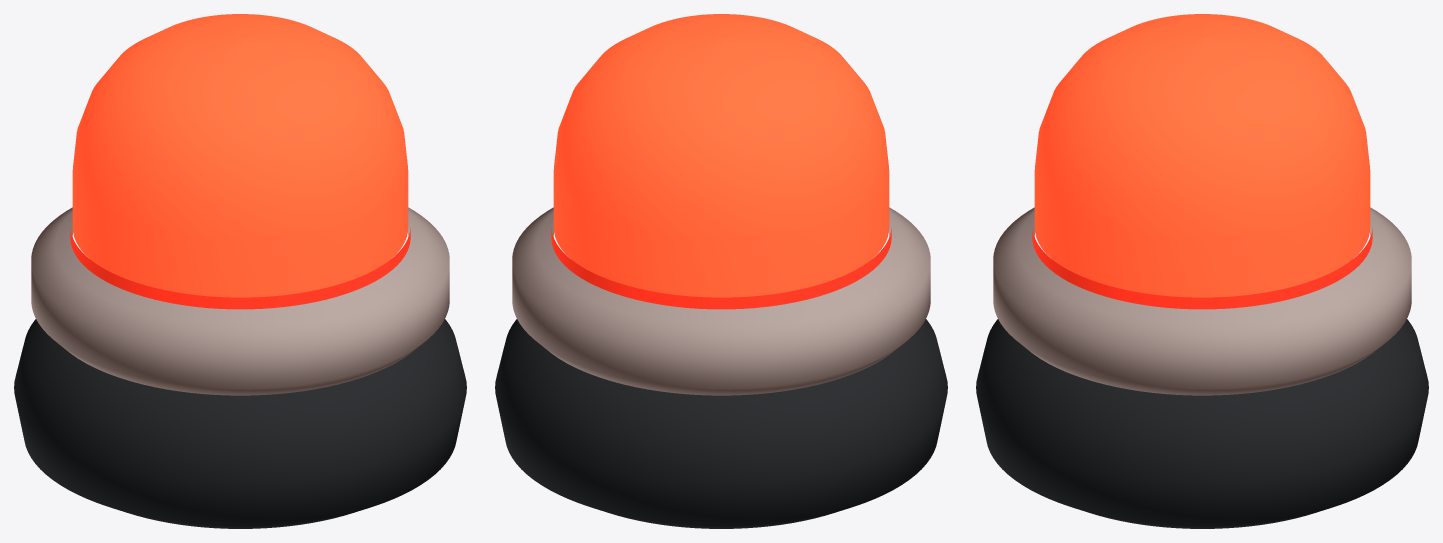
File: BigRedButtonGlowLevel10.glb
3 renders of one model, left to right at view 1: azimuth 30°, elevation 25°; view 2: azimuth 150°, elevation 25°; view 3: azimuth 270°, elevation 25°, orthographic.
Visible parts, largest first — view 1: button, button_base, metal_bezel, cap_side_shadow; view 2: button, button_base, metal_bezel, cap_side_shadow; view 3: button, button_base, metal_bezel, cap_side_shadow.
Part boxes in pixels (box(x1,y1,x2,y2)): button: box(72, 14, 408, 297); button_base: box(14, 319, 466, 528); metal_bezel: box(31, 207, 449, 395); cap_side_shadow: box(70, 228, 410, 309); button: box(553, 14, 889, 297); button_base: box(495, 319, 947, 528); metal_bezel: box(512, 207, 930, 395); cap_side_shadow: box(551, 228, 891, 309); button: box(1034, 14, 1370, 297); button_base: box(976, 319, 1428, 528); metal_bezel: box(993, 207, 1411, 395); cap_side_shadow: box(1032, 228, 1372, 309).
Bounding box in the file's own units: 0.0185 × 0.0185 × 0.0185.
